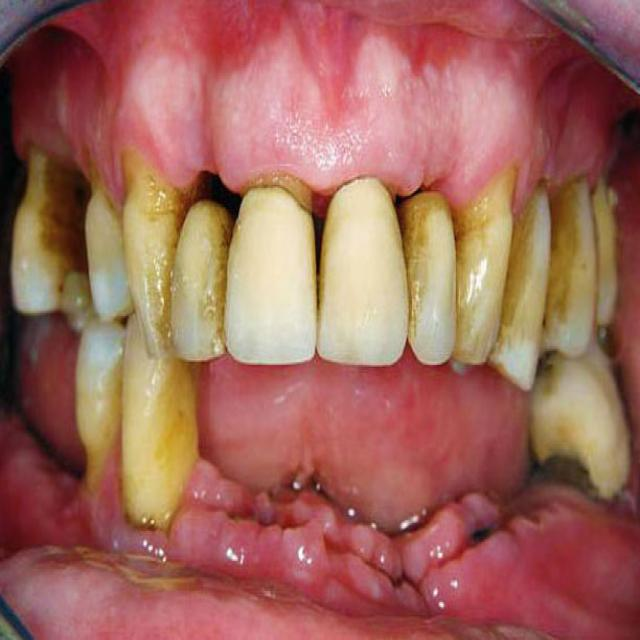caries: (537, 432, 597, 498)
